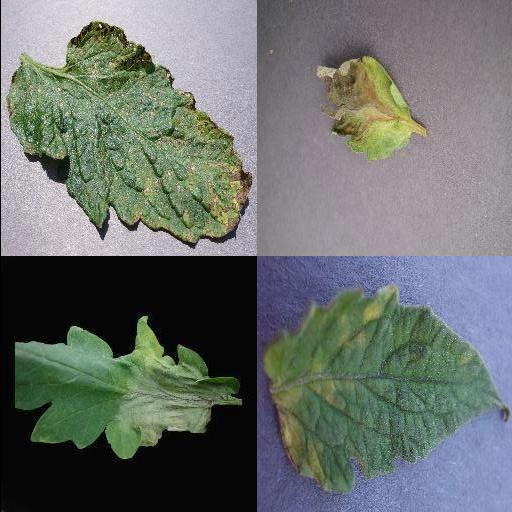Late Blight: (13, 317, 239, 461), (315, 53, 415, 159)
Leaf Mold: (261, 285, 509, 496)
Septoria: (3, 23, 251, 245)
